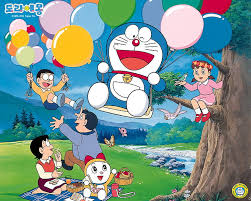doraemon: (86, 22, 169, 119)
